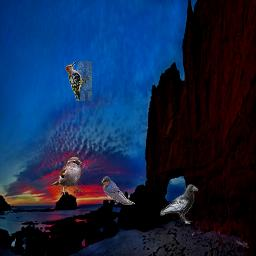Crow: (160, 184, 198, 224)
Sparrow: (51, 156, 82, 196)
Swallow: (101, 176, 135, 205)
Woodpecker: (64, 61, 92, 101)
